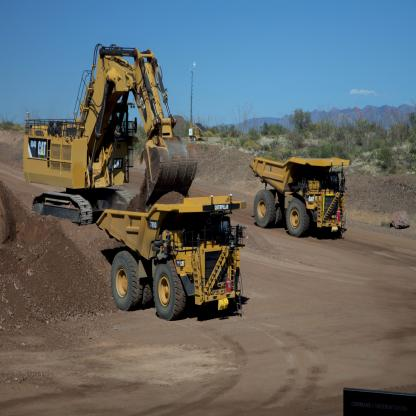dump_truck: (98, 195, 248, 321), (249, 152, 353, 244)
excavator: (13, 34, 198, 220)
